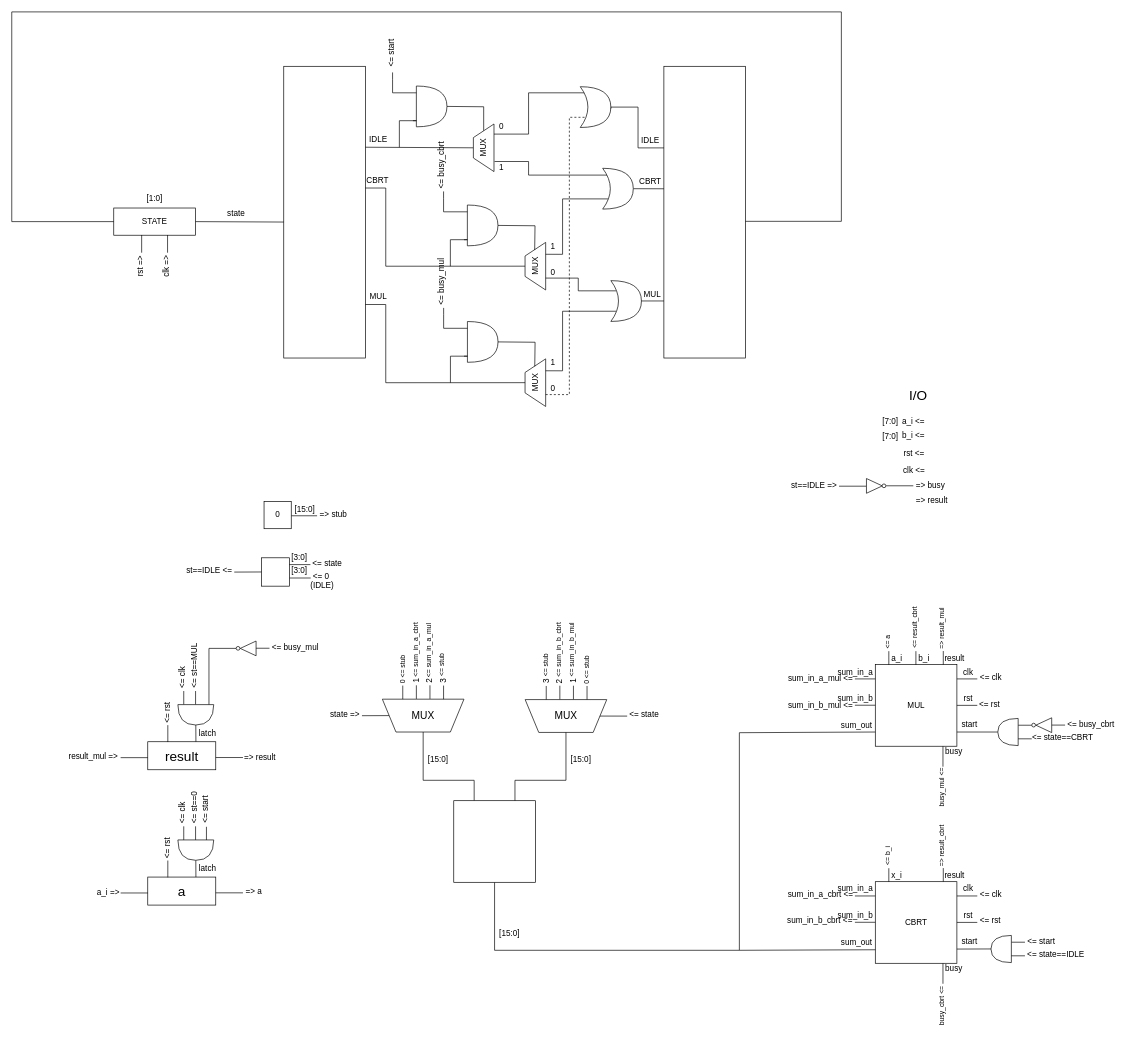
Some shapes in this 1132 by 1039 pixel diagram are drawn without their labels. The shapes that lost their labels are listed below. From the top down, each one's centre as x and y in pixels, then its label:
At pixel 275 571: "CMP".
At pixel 494 841: "SUM".
